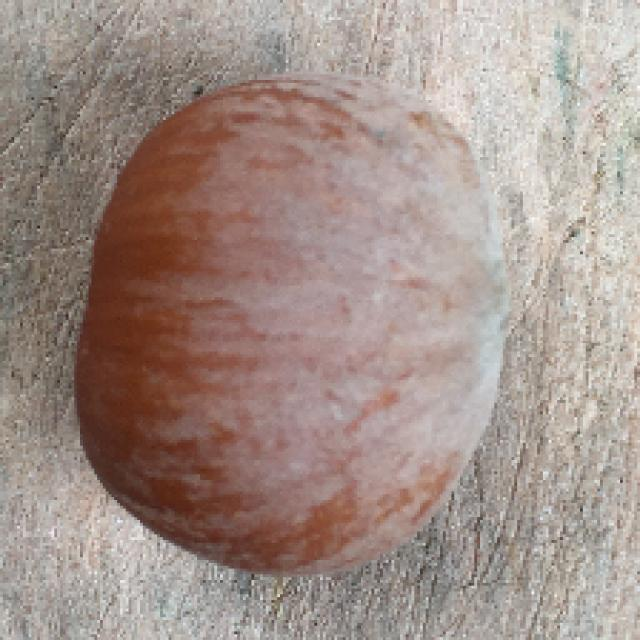qualityHazelnut: (60, 73, 518, 576)
